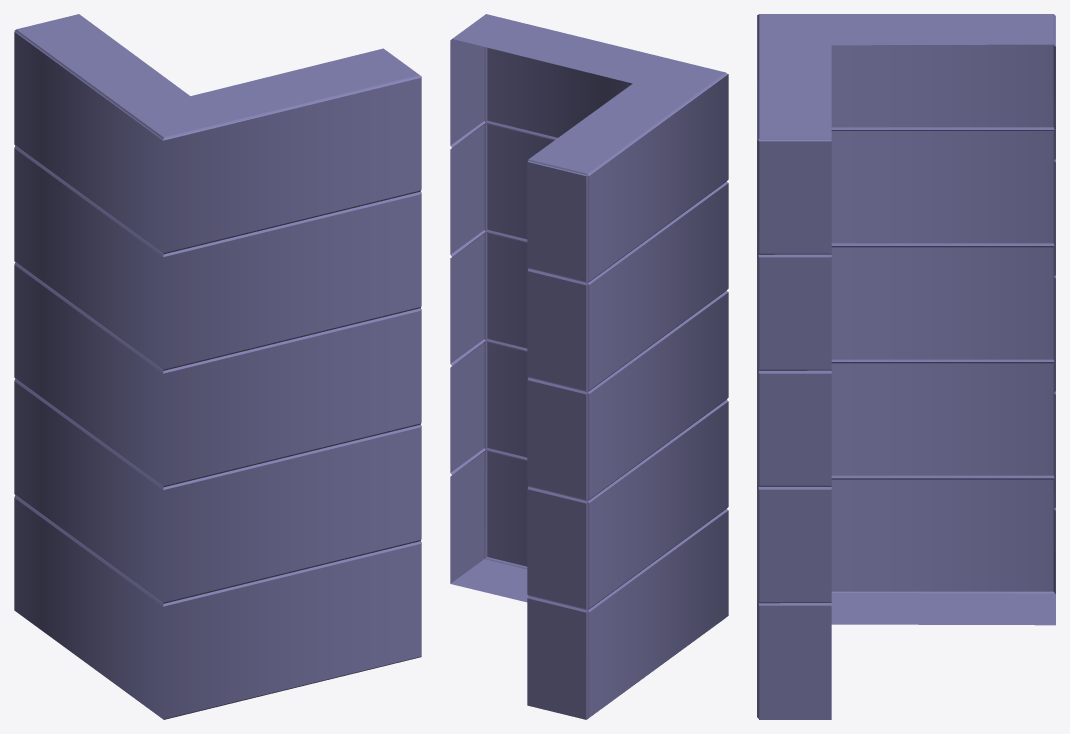
Rendered from M_A_corner_01.fbx.
3 views of the same model, side by side, from view 1: azimuth 30°, elevation 25°; view 2: azimuth 150°, elevation 25°; view 3: azimuth 270°, elevation 25° (orthographic). The views are drawn at different scales.
Parts seen in each view (by area): view 1: M_A_corner_01; view 2: M_A_corner_01; view 3: M_A_corner_01.
Part boxes in pixels (left/top/right/bottom): M_A_corner_01: left=14, top=14, right=421, bottom=719; M_A_corner_01: left=450, top=14, right=728, bottom=719; M_A_corner_01: left=757, top=14, right=1055, bottom=719.
Size of the model in its own units: 140 by 300 by 140.
